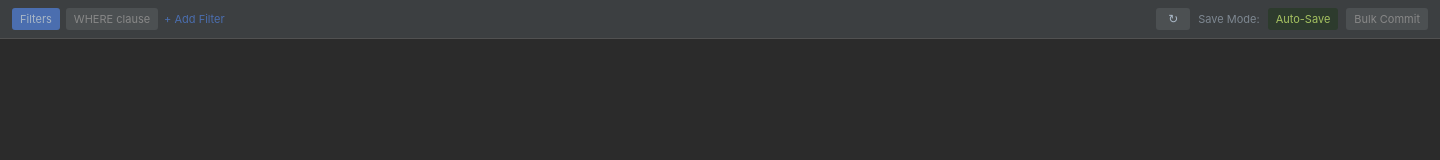
Scenario: FilterTopbar › switches to raw WHERE mode
The width and height of the screenshot is (1440, 160).
Click the button "WHERE clause".
click(112, 19)  # box [66, 8, 158, 30]
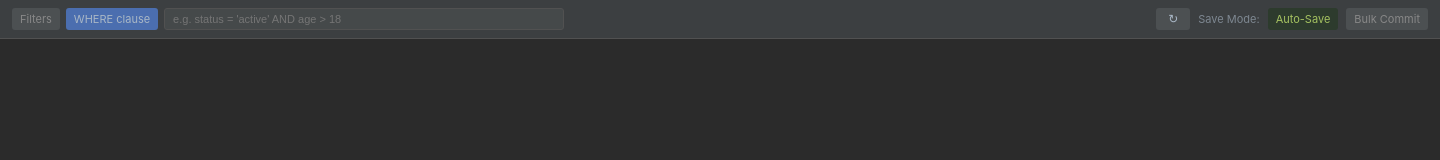
Expected: the field with placeholder "e.g. status = 'active' AND age > 18" is shown, [164, 8, 564, 30]
